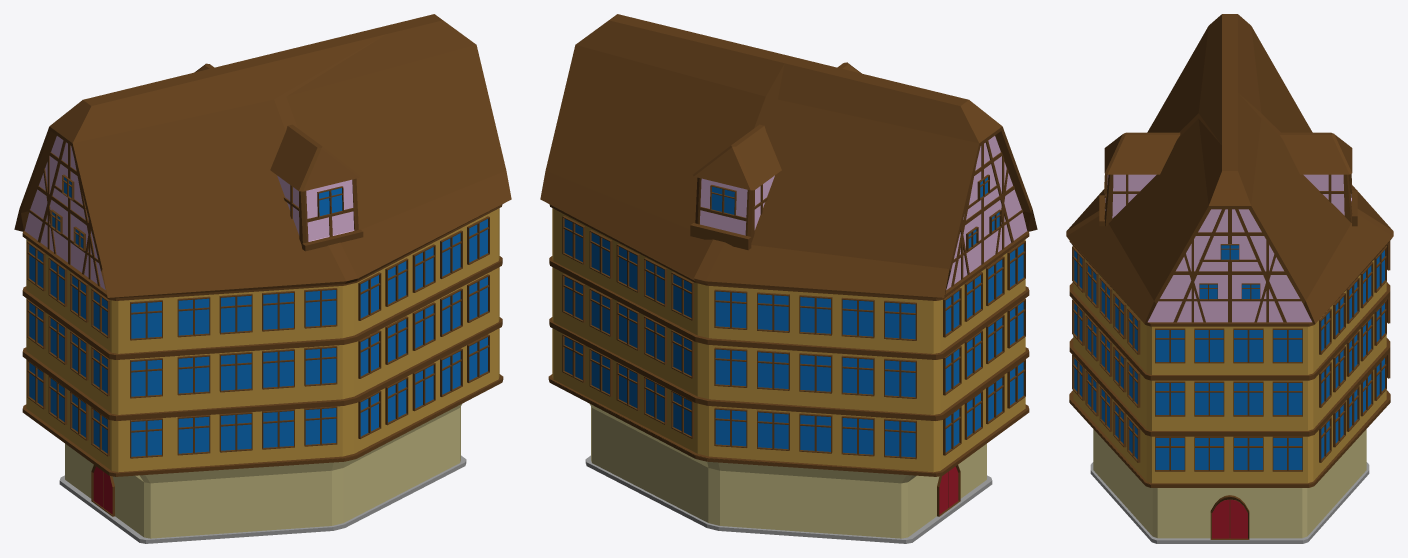
File: hotel.gltf
The picture shows the model from 3 angles, left to right: view 1: azimuth 30°, elevation 25°; view 2: azimuth 150°, elevation 25°; view 3: azimuth 270°, elevation 25°; orthographic projection. The views are drawn at different scales.
Parts seen in each view (by area): view 1: hotel; view 2: hotel; view 3: hotel.
Boxes of the visible parts, x1,y1,x2,y2 form: hotel: (14,14,511,543); hotel: (540,14,1037,543); hotel: (1066,14,1393,543).
Bounding box in the file's own units: 0.2761 × 0.2701 × 0.2115.
Materials: 1 (1 with a texture image).
